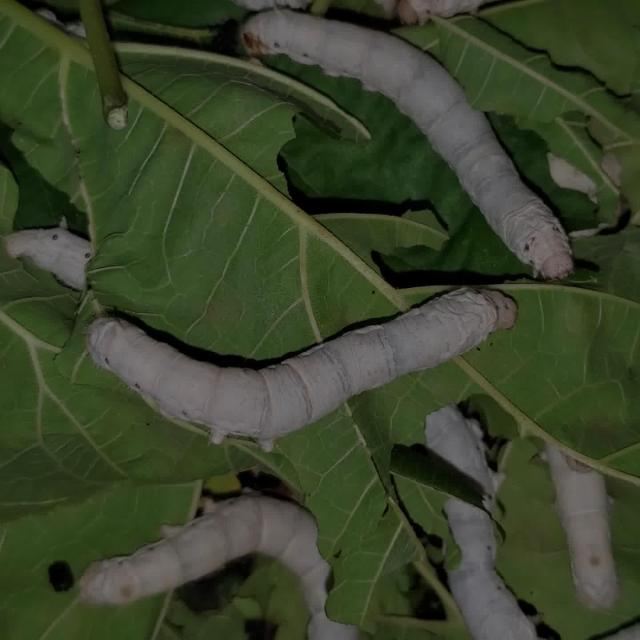Healthy: (241, 2, 586, 279), (81, 280, 521, 456)
